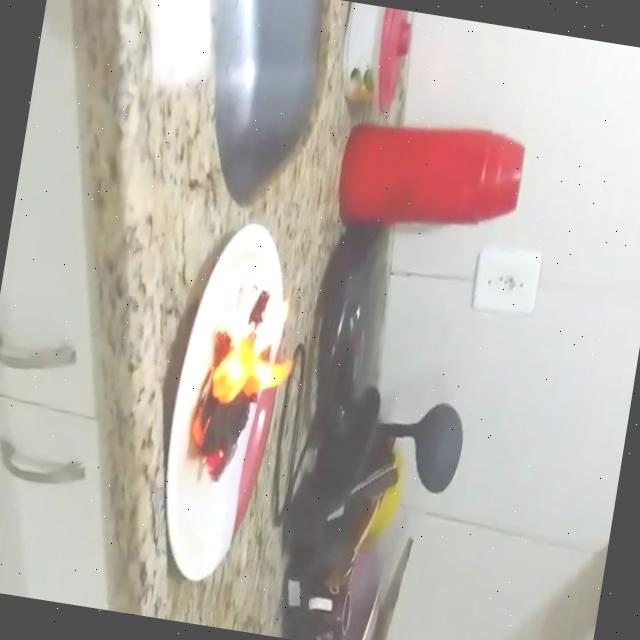fire: (180, 276, 307, 496)
